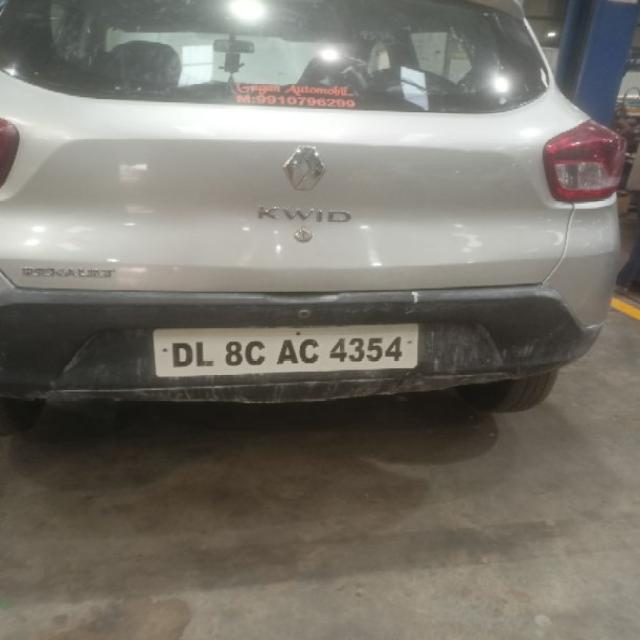license_plate: (150, 322, 420, 377)
